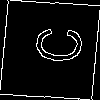C: (24, 25, 84, 65)
